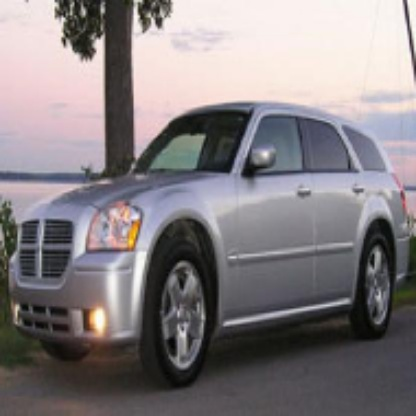Vehicle: (4, 100, 415, 388)
